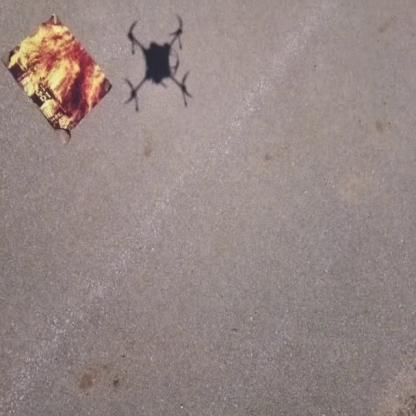fire-poster: (1, 12, 113, 143)
